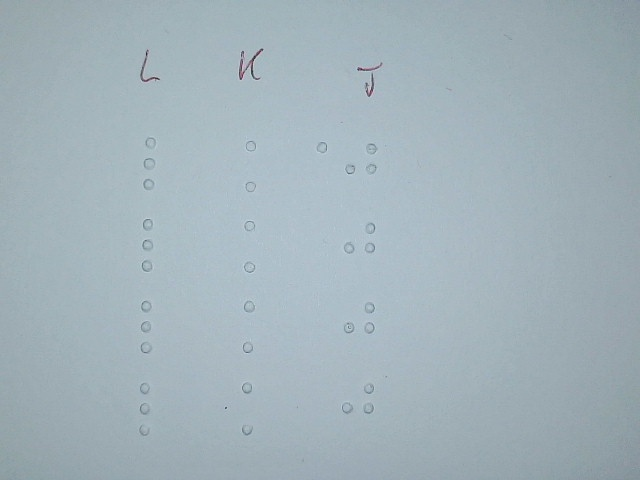J: (342, 134, 380, 194), (340, 215, 378, 275), (340, 292, 378, 352), (339, 373, 377, 433)
K: (234, 135, 284, 197), (234, 215, 284, 277), (232, 294, 282, 356), (230, 377, 280, 439)
L: (133, 132, 183, 194), (131, 213, 181, 275), (130, 295, 180, 357), (130, 376, 180, 438)
